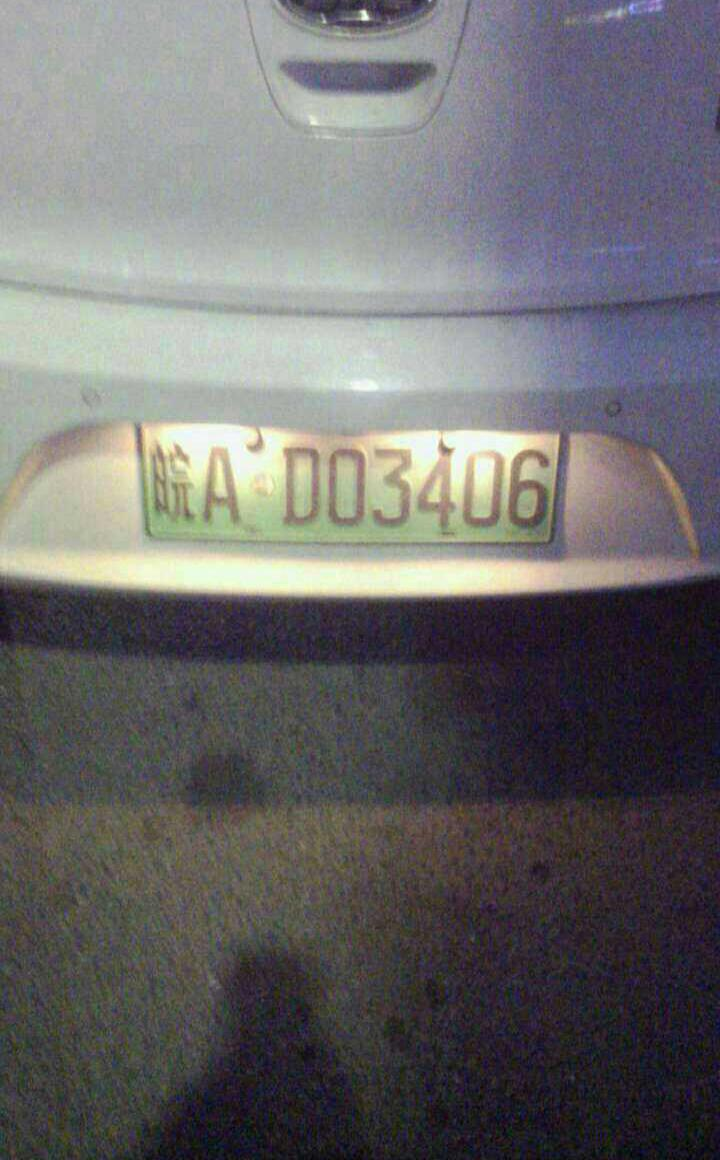car: (129, 418, 563, 547)
